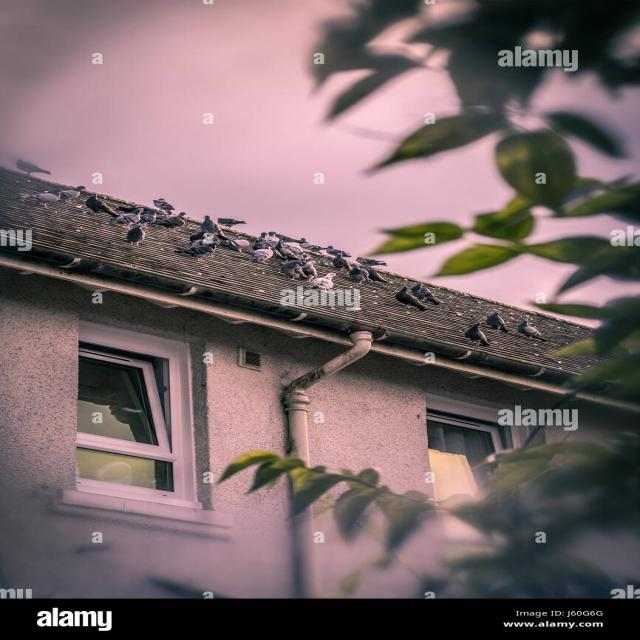bird: (394, 286, 428, 312), (516, 319, 548, 344), (175, 240, 215, 260), (85, 194, 118, 217), (14, 158, 53, 177), (410, 284, 443, 306), (110, 207, 147, 226), (463, 322, 491, 347), (23, 192, 60, 208), (308, 272, 337, 292), (485, 311, 508, 334), (124, 223, 147, 246), (347, 264, 370, 284), (56, 186, 83, 202), (355, 256, 389, 268), (199, 215, 220, 234), (152, 198, 176, 214), (330, 253, 350, 271), (89, 171, 105, 186)
